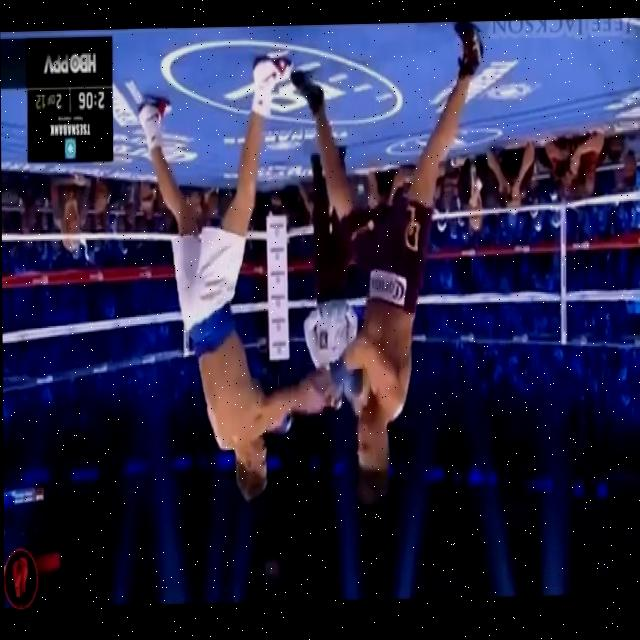Jab: (210, 301, 377, 482)
